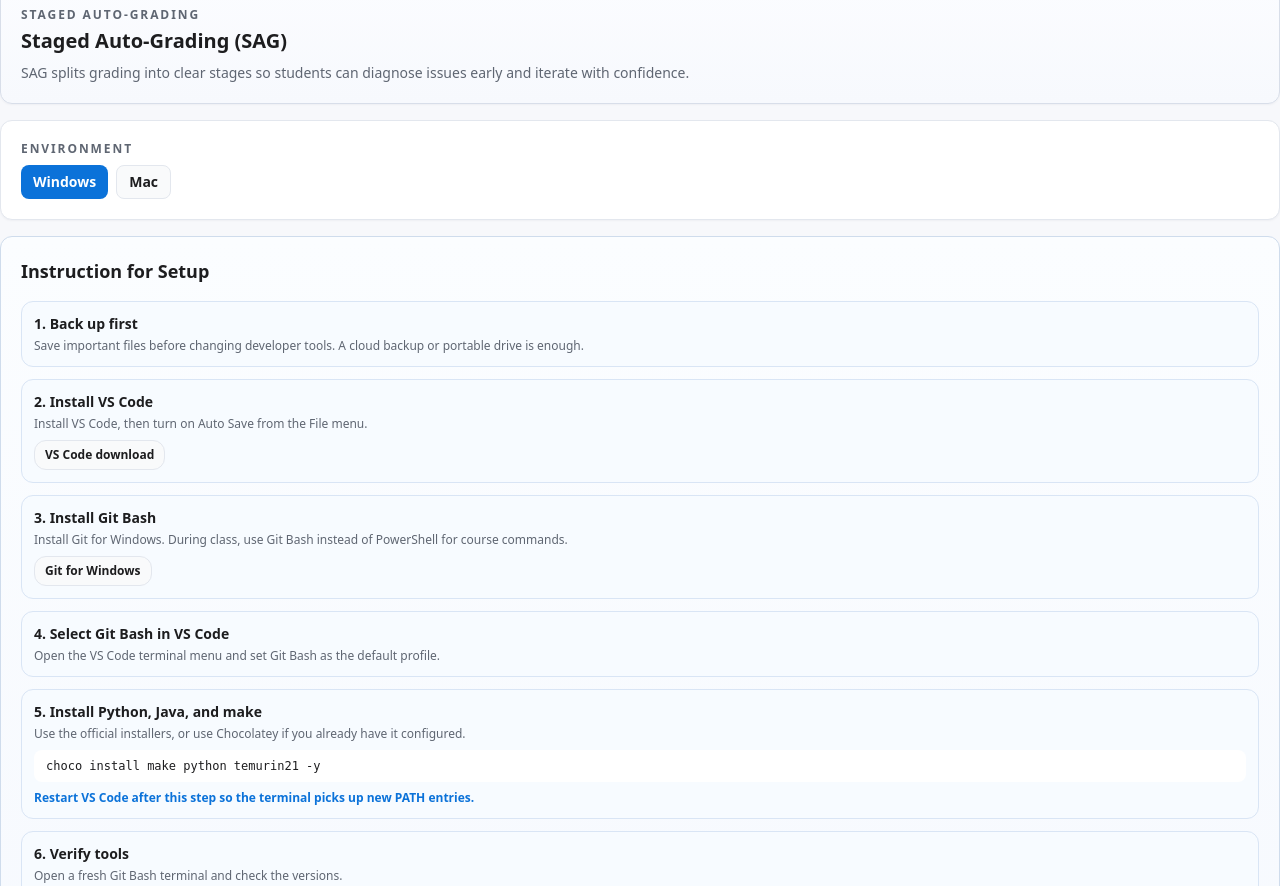
SAGPanel › renders concise Windows and Mac setup steps without placeholder videos
Check: the text "3. Install Git Bash" is shown, box x1=34 y1=508 x2=156 y2=527
Check: the text "choco install make python temurin21 -y" is shown, box x1=46 y1=759 x2=320 y2=773
Click the button "Mac" at [144, 182], box x1=116 y1=165 x2=171 y2=199
(page scrolled)
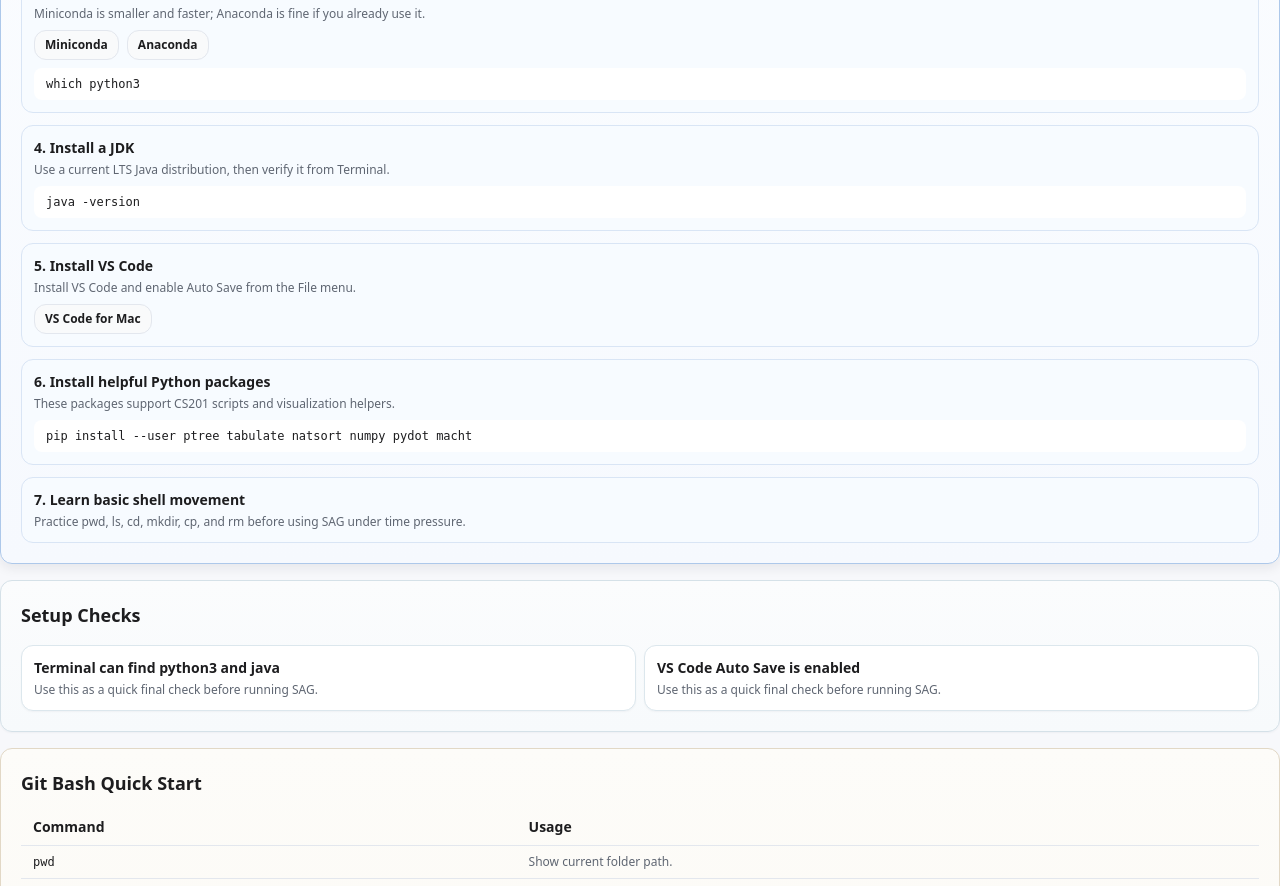
Check: the text "pip install --user ptree tabulate natsort numpy pydot macht" is shown, box x1=46 y1=429 x2=472 y2=443
